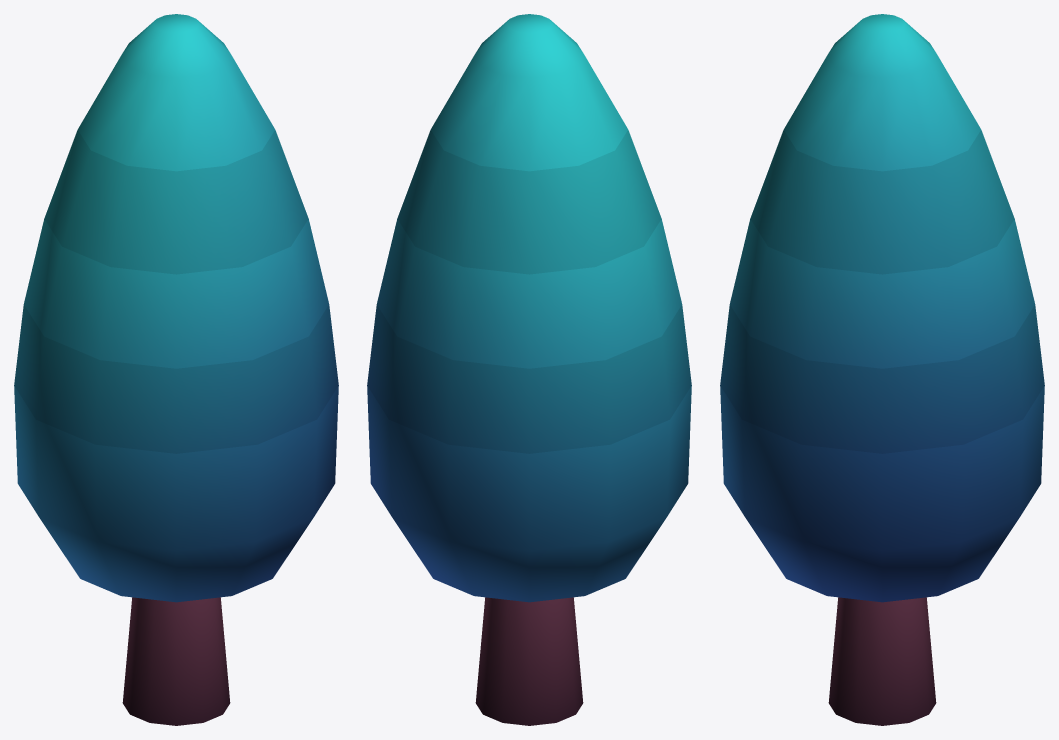
File: tree01.fbx
The picture shows the model from 3 angles, left to right: view 1: azimuth 30°, elevation 25°; view 2: azimuth 150°, elevation 25°; view 3: azimuth 270°, elevation 25°; orthographic projection.
Visible parts, largest first — view 1: Cylinder.037; view 2: Cylinder.037; view 3: Cylinder.037.
Boxes of the visible parts, <box> form: Cylinder.037: <box>14,14,338,725</box>; Cylinder.037: <box>367,14,691,725</box>; Cylinder.037: <box>720,14,1044,725</box>.
Bounding box in the file's own units: 145 × 335 × 145.
